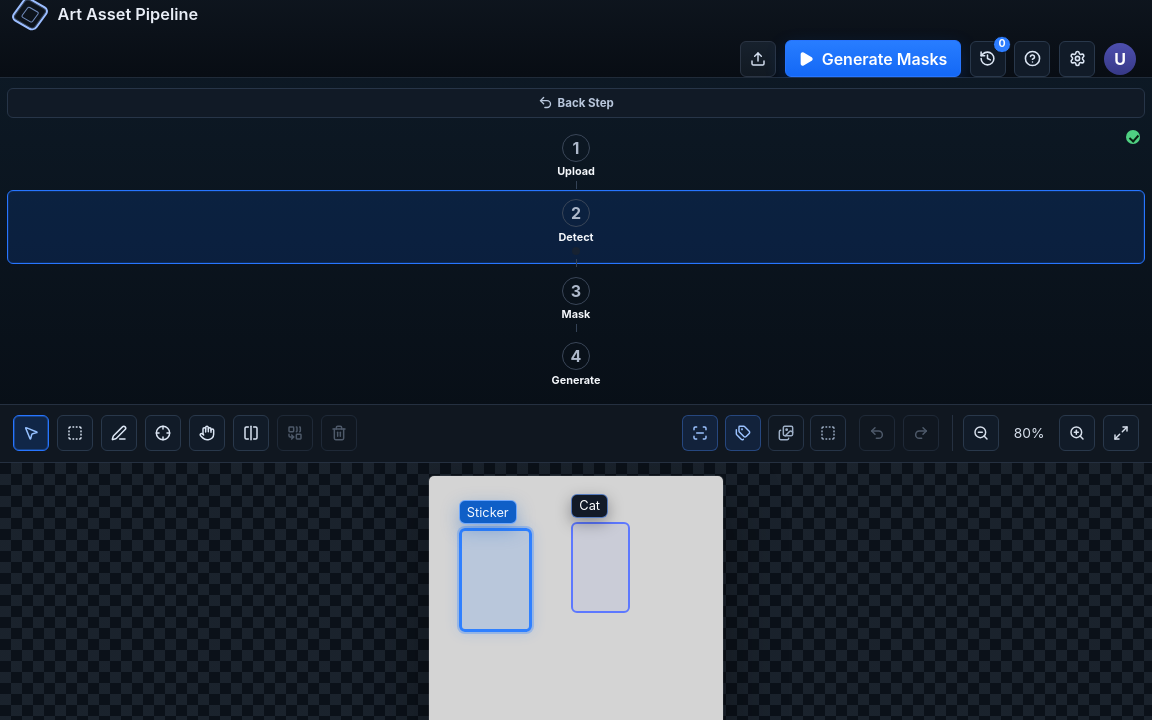
Scenario: App sticker workflow wiring 01 › runs pending Mask jobs by creating one workspace task from the top workflow action
Click the button "Generate Masks" at (873, 59), box x1=785 y1=40 x2=961 y2=77
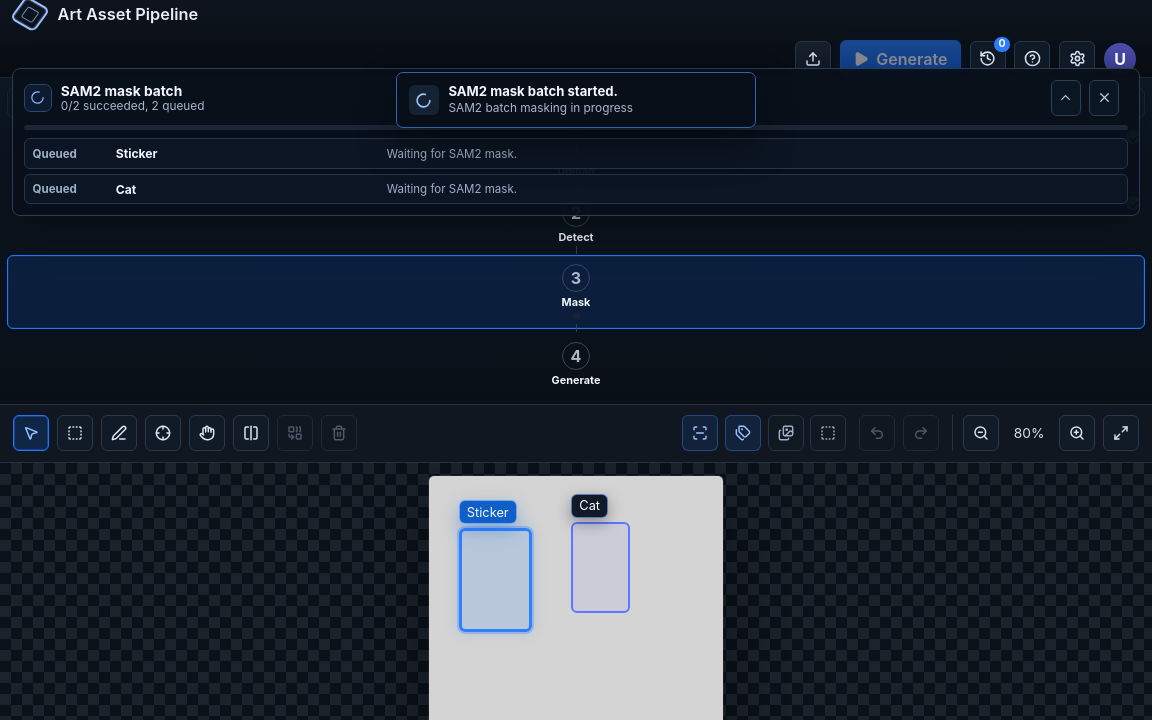
Expected: the element named "workspace tasks" shows "0/2 succeeded", x1=12 y1=68 x2=1140 y2=216
